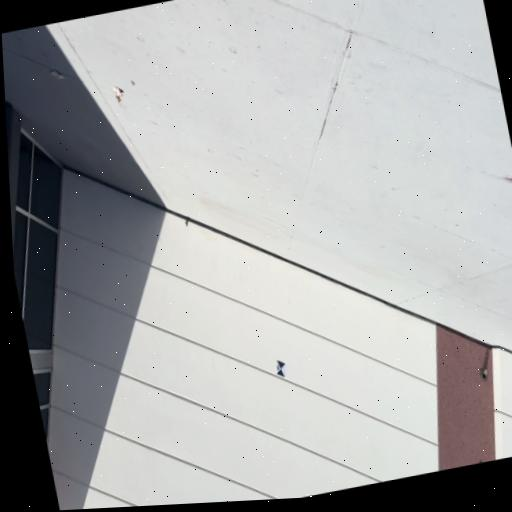target4: (277, 360, 286, 379)
